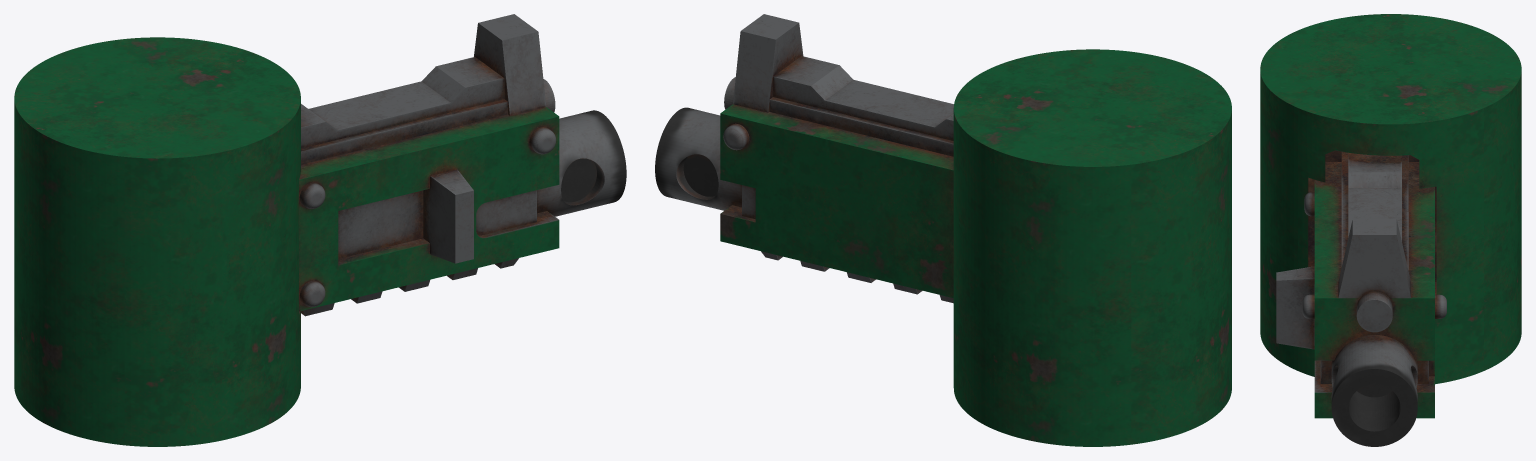
3 renders of one model, left to right at view 1: azimuth 30°, elevation 25°; view 2: azimuth 150°, elevation 25°; view 3: azimuth 270°, elevation 25°, orthographic. The views are drawn at different scales.
Visible parts, largest first — view 1: SpansBolter; view 2: SpansBolter; view 3: SpansBolter.
Part boxes in pixels (box(x1,y1,x2,y2)): SpansBolter: box(14, 14, 626, 446); SpansBolter: box(655, 14, 1231, 446); SpansBolter: box(1260, 14, 1521, 446).
Bounding box in the file's own units: 2928 × 1440 × 1296.
1 material, 1 textured.
